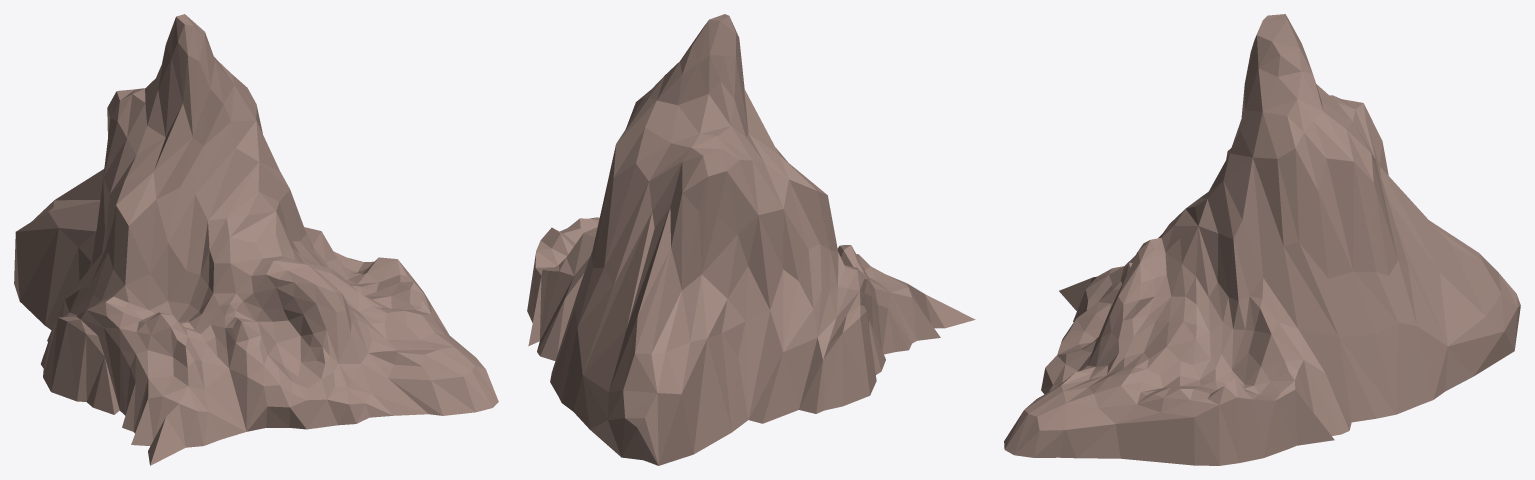
File: mountain_003.fbx
3 views of the same model, side by side, from view 1: azimuth 30°, elevation 25°; view 2: azimuth 150°, elevation 25°; view 3: azimuth 270°, elevation 25° (orthographic). The views are drawn at different scales.
Parts seen in each view (by area): view 1: mountain.003; view 2: mountain.003; view 3: mountain.003.
Part boxes in pixels (left/top/right/bottom): mountain.003: left=14, top=14, right=498, bottom=465; mountain.003: left=527, top=14, right=975, bottom=465; mountain.003: left=1004, top=14, right=1520, bottom=465.
Bounding box in the file's own units: 4134 × 3803 × 5158.
Materials: 1 (1 with a texture image).
